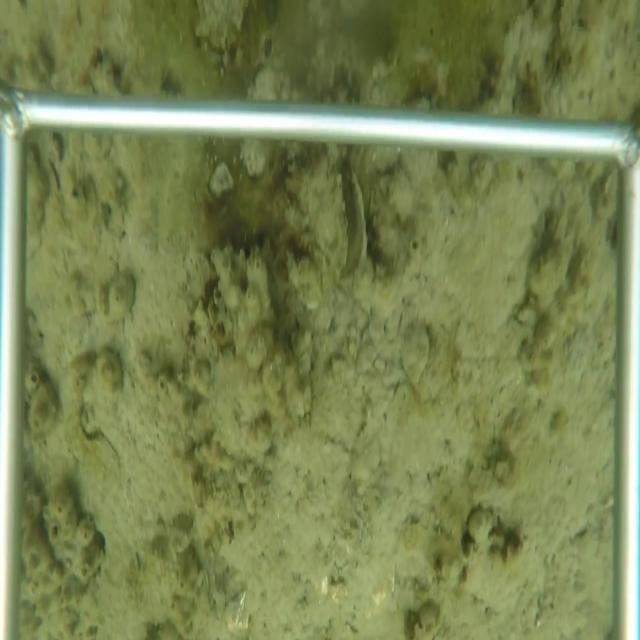Oyster-Indeterminate: (399, 313, 432, 396)
Oyster-Open: (307, 170, 368, 283)
